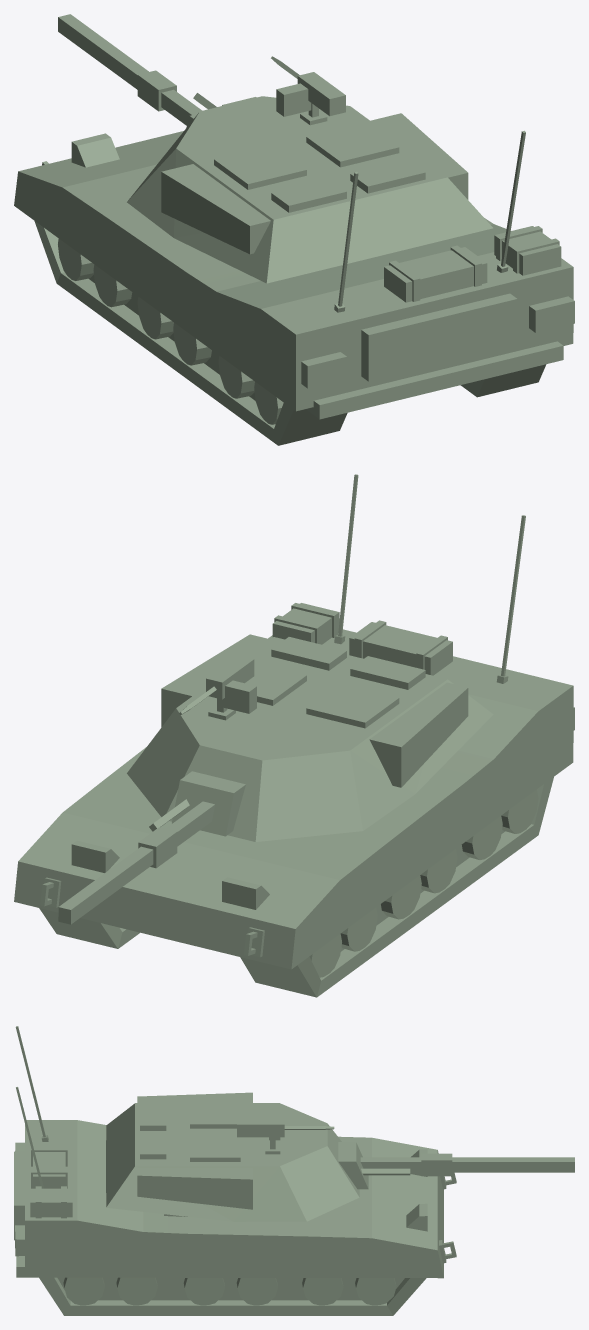
The model's file is tank_01_body.fbx.
3 renders of one model, top to bottom at view 1: azimuth 30°, elevation 25°; view 2: azimuth 150°, elevation 25°; view 3: azimuth 270°, elevation 25°, orthographic. The views are drawn at different scales.
Visible parts, largest first — view 1: tank_01_body, turret, barrel, lid02, lid01; view 2: tank_01_body, turret, barrel, lid01, lid02; view 3: tank_01_body, turret, barrel, lid02, lid01.
Part boxes in pixels (x1,y1,x2,y2): tank_01_body: (14,97,574,445); turret: (127,56,492,283); barrel: (58,14,216,127); lid02: (306,122,399,167); lid01: (214,145,306,189); tank_01_body: (14,474,574,997); turret: (127,634,493,841); barrel: (58,771,245,924); lid01: (306,683,399,728); lid02: (245,662,306,705); tank_01_body: (14,1026,456,1315); turret: (106,1092,359,1221); barrel: (338,1142,574,1189); lid02: (190,1136,240,1161); lid01: (190,1103,240,1128).
Size of the model in its own units: 4.99 by 4.9 by 11.75.
